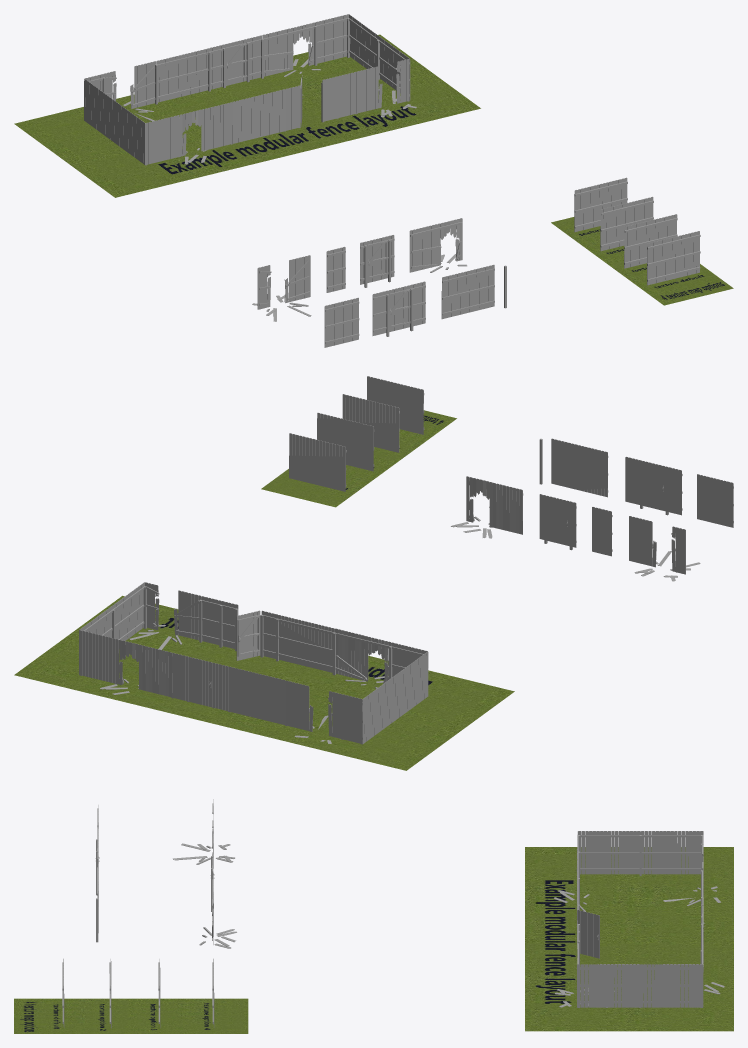
File: PrivacyFencePack.fbx
3 views of the same model, one above another, from view 1: azimuth 30°, elevation 25°; view 2: azimuth 150°, elevation 25°; view 3: azimuth 270°, elevation 25° (orthographic). The views are drawn at different scales.
Parts seen in each view (by area): view 1: Example_Layout, ExampleGround, ExampleTextures, Fence_17_DE, Ex_Fence_17_DE_1, Fence_17_Broken_Small, Ex_Fence_17_DE_4, Ex_Fence_17_DE_3, Ex_Fence_17_DE_2, Fence_17_Broken_Large, Fence_11_DE, Fence_17_Door (+4 smaller); view 2: Example_Layout, ExampleGround, ExampleTextures, Ex_Fence_17_DE_4, Fence_17_DE, Fence_17_Broken_Small, Ex_Fence_17_DE_3, Ex_Fence_17_DE_2, Ex_Fence_17_DE_1, Fence_17_Broken_Large, Fence_11_DE, Fence_17_Door (+4 smaller); view 3: ExampleGround, Example_Layout, ExampleTextures, Fence_Pieces_Large.
Boxes of the visible parts, box(x1,y1,x2,y2) form: Example_Layout: box(84, 14, 416, 165); ExampleGround: box(14, 34, 480, 197); ExampleTextures: box(551, 217, 733, 305); Fence_17_DE: box(441, 264, 494, 319); Ex_Fence_17_DE_1: box(647, 231, 700, 285); Fence_17_Broken_Small: box(409, 218, 462, 272); Ex_Fence_17_DE_4: box(574, 177, 627, 232); Ex_Fence_17_DE_3: box(600, 196, 653, 251); Ex_Fence_17_DE_2: box(624, 214, 677, 268); Fence_17_Broken_Large: box(257, 255, 310, 309); Fence_11_DE: box(324, 297, 359, 347); Fence_17_Door: box(372, 281, 425, 336); Example_Layout: box(79, 582, 428, 744); ExampleGround: box(14, 595, 514, 770); ExampleTextures: box(261, 410, 456, 507); Ex_Fence_17_DE_4: box(289, 433, 346, 491); Fence_17_DE: box(551, 438, 608, 497); Fence_17_Broken_Small: box(466, 476, 523, 534); Ex_Fence_17_DE_3: box(317, 412, 374, 471); Ex_Fence_17_DE_2: box(342, 394, 399, 452); Ex_Fence_17_DE_1: box(367, 376, 424, 434); Fence_17_Broken_Large: box(629, 516, 685, 574); Fence_11_DE: box(697, 474, 733, 527); Fence_17_Door: box(625, 456, 682, 515); ExampleGround: box(525, 847, 733, 1031); Example_Layout: box(553, 831, 724, 1007); ExampleTextures: box(14, 998, 248, 1033); Fence_Pieces_Large: box(173, 843, 234, 864).
Bounding box in the file's own units: 1958 × 224 × 3117.
Materials: 14 (2 with a texture image).
